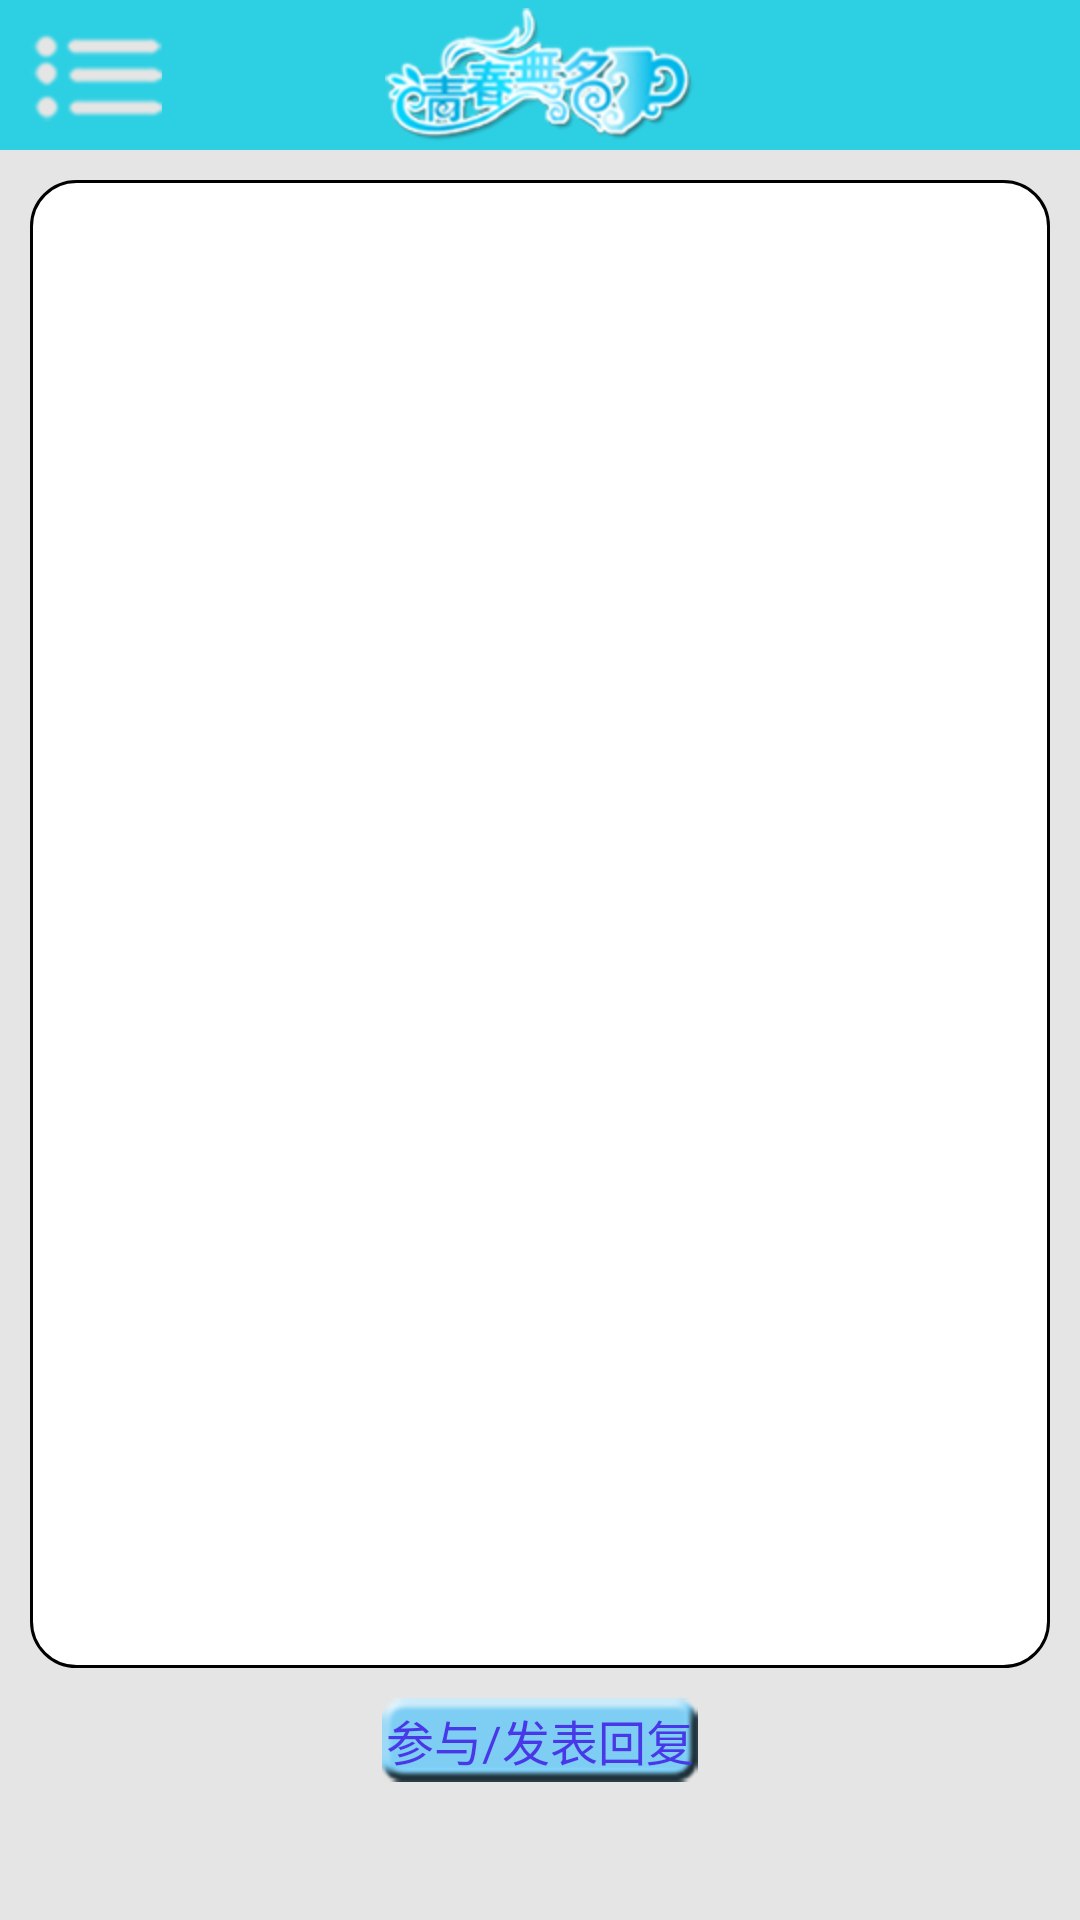

Where icons sit on this 1080 x 1920 app screen, as (left=x1, top=y1, right=x2, bottom=y2):
global menu: (left=34, top=35, right=162, bottom=120)
